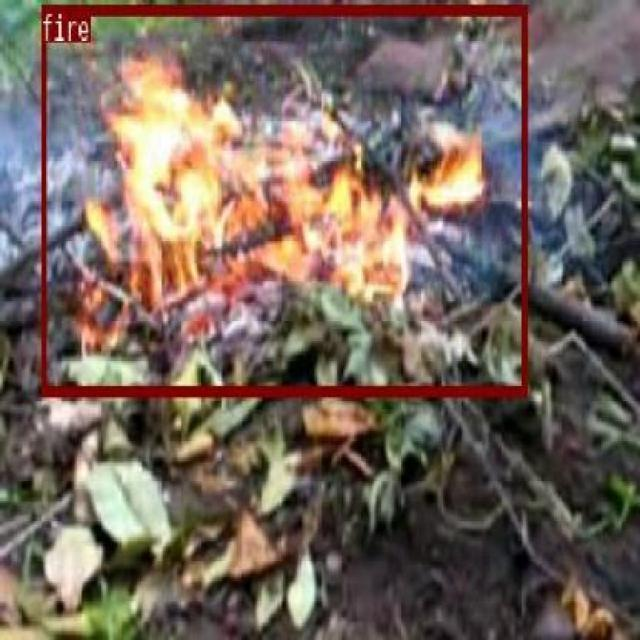Fire: (282, 198, 486, 391)
